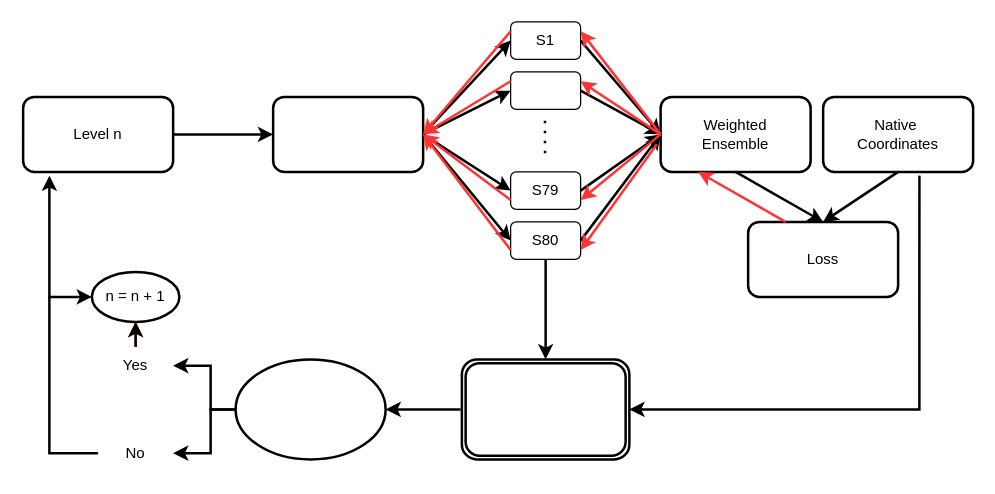
Some shapes in this 995 by 494 pixel diagram are drawn without their labels. The box of each missing label's shape, as (x1, y1, x2, y2) in pixels:
Pass threshold?: (234, 358, 386, 460)
S2: (509, 71, 581, 109)
Simulate: (271, 95, 424, 172)
Val RMSD: (460, 358, 630, 460)
